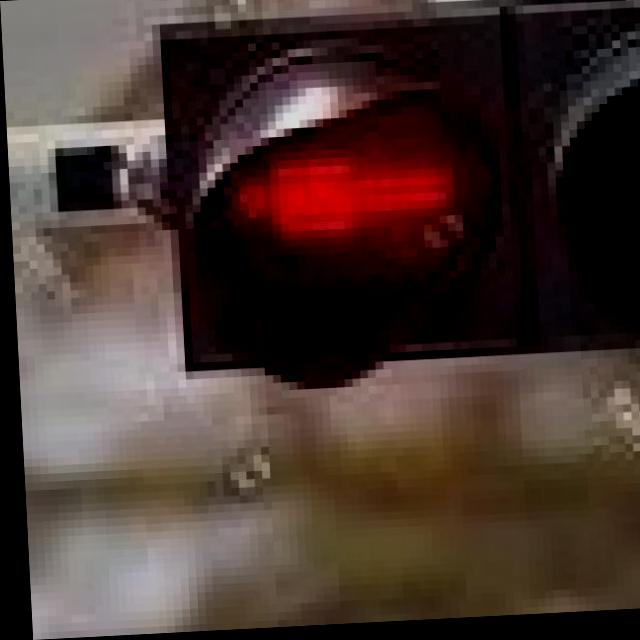red_light: (188, 131, 471, 301)
